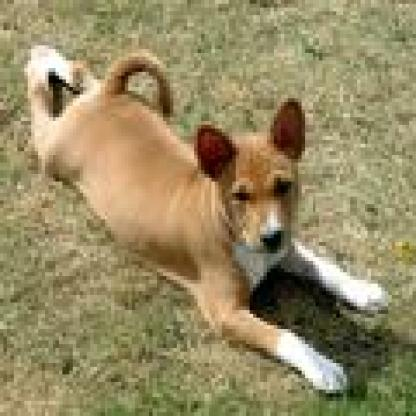basenji: (17, 38, 392, 393)
